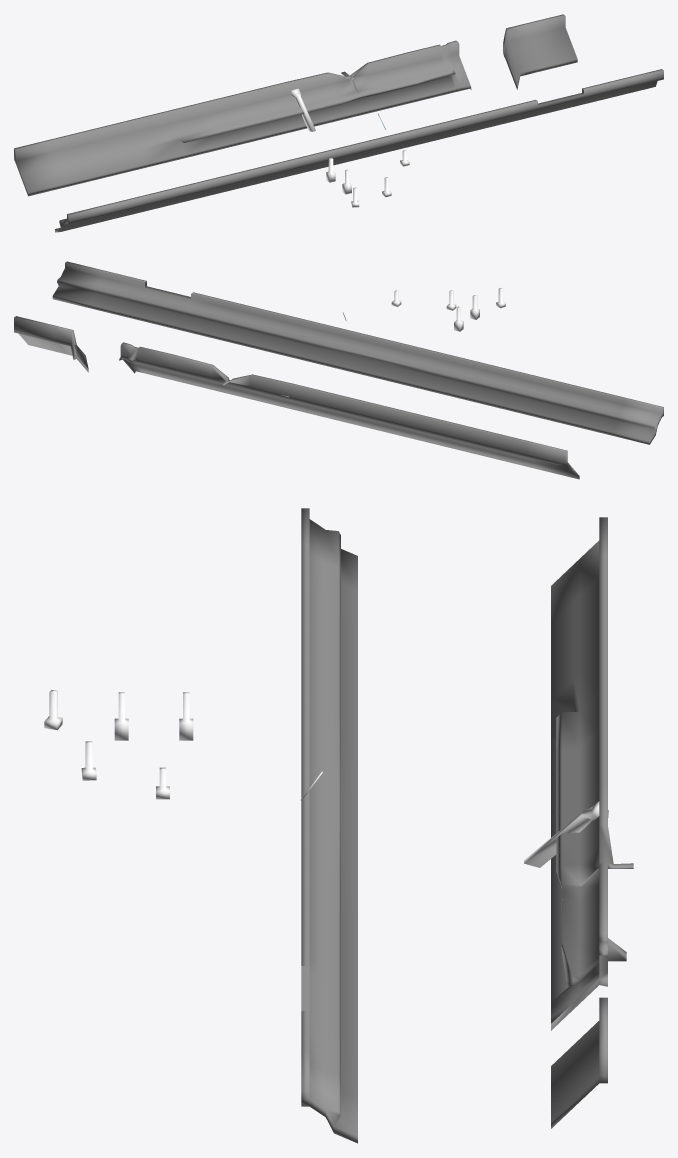
The model's file is Decoração.fbx.
3 renders of one model, top to bottom at view 1: azimuth 30°, elevation 25°; view 2: azimuth 150°, elevation 25°; view 3: azimuth 270°, elevation 25°, orthographic. The views are drawn at different scales.
Visible parts, largest first — view 1: Decoração; view 2: Decoração; view 3: Decoração.
Part boxes in pixels (bbox=[...]): Decoração: bbox=[14, 14, 663, 232]; Decoração: bbox=[14, 261, 663, 479]; Decoração: bbox=[44, 508, 633, 1143].
Bounding box in the file's own units: 32408 × 3478 × 13896.
